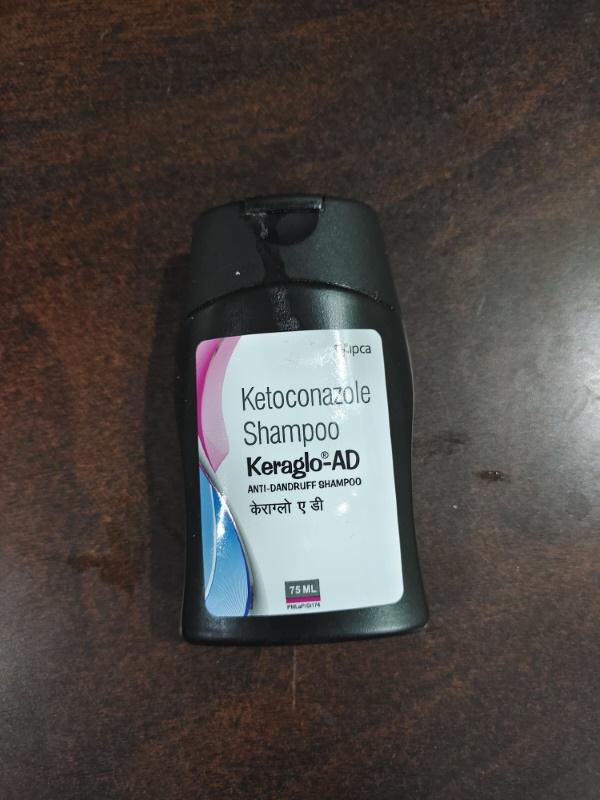KeraGlo: (146, 192, 442, 664)
